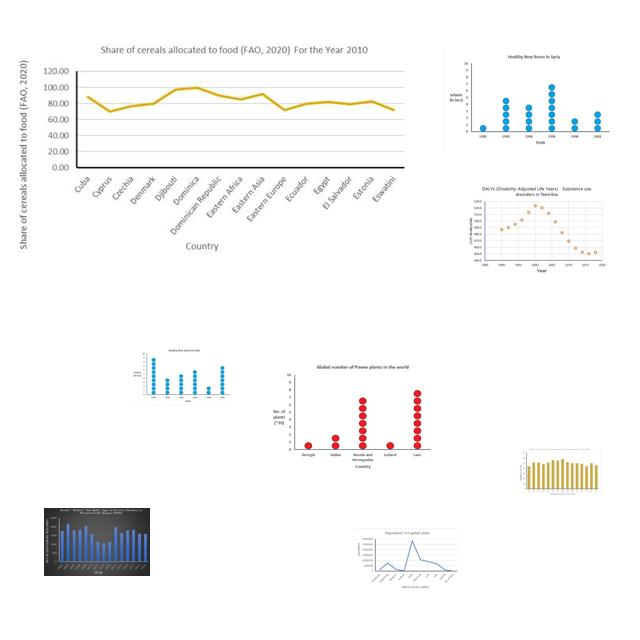Graph: (12, 37, 412, 260), (271, 363, 431, 472), (443, 50, 613, 150), (466, 184, 608, 275), (44, 508, 150, 576), (354, 528, 460, 592), (130, 346, 232, 406), (518, 447, 601, 497)
